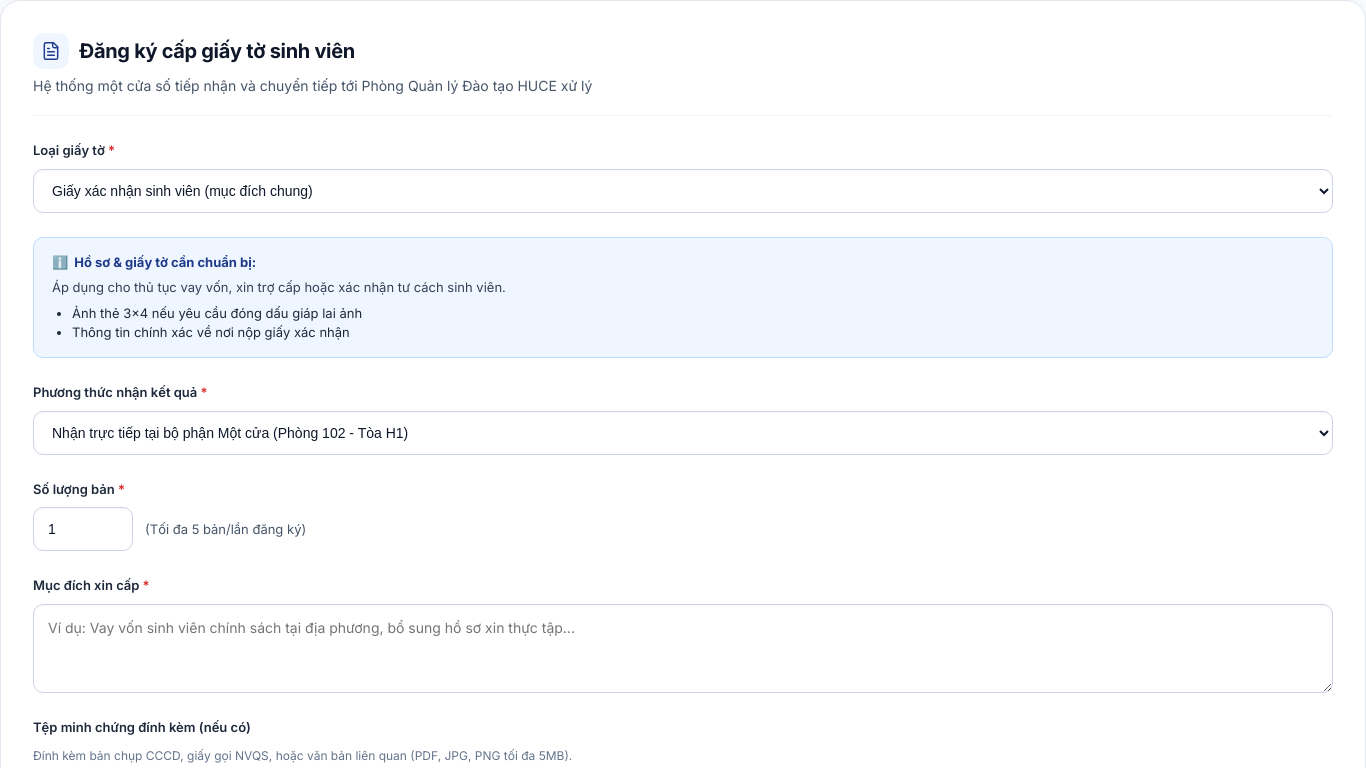
Test: DocumentRequestForm Enhanced AI & Attachments › displays document preparation guidance for selected document type
Select "Giấy xác nhận tạm hoãn NVQS" in the dropdown labelled "Loại giấy tờ *" at (683, 191), box [33,169,1333,213]
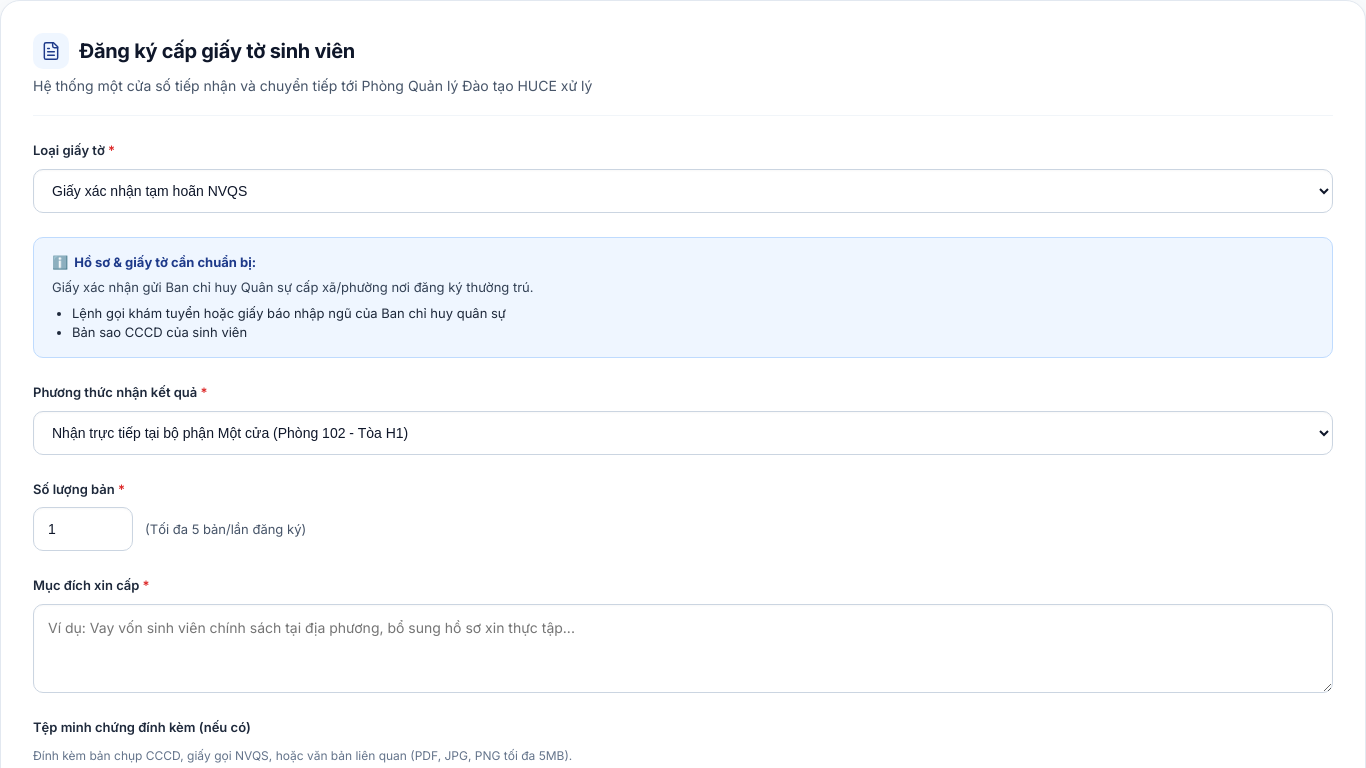
Expected: the text "ℹ️ Hồ sơ & giấy tờ cần chuẩn bị:" is shown, [52,254,256,270]
Expected: the list item "Lệnh gọi khám tuyển hoặc giấy báo nhập ngũ" is shown, [72,305,506,321]
